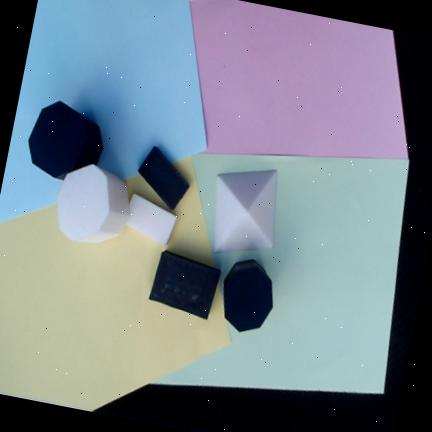Paralelepipedo: (149, 250, 222, 320), (137, 146, 190, 211), (126, 193, 178, 247)
Piramide: (214, 170, 278, 252)
Prisma_hexagonal: (27, 100, 104, 181), (56, 164, 129, 243), (223, 259, 273, 332)
